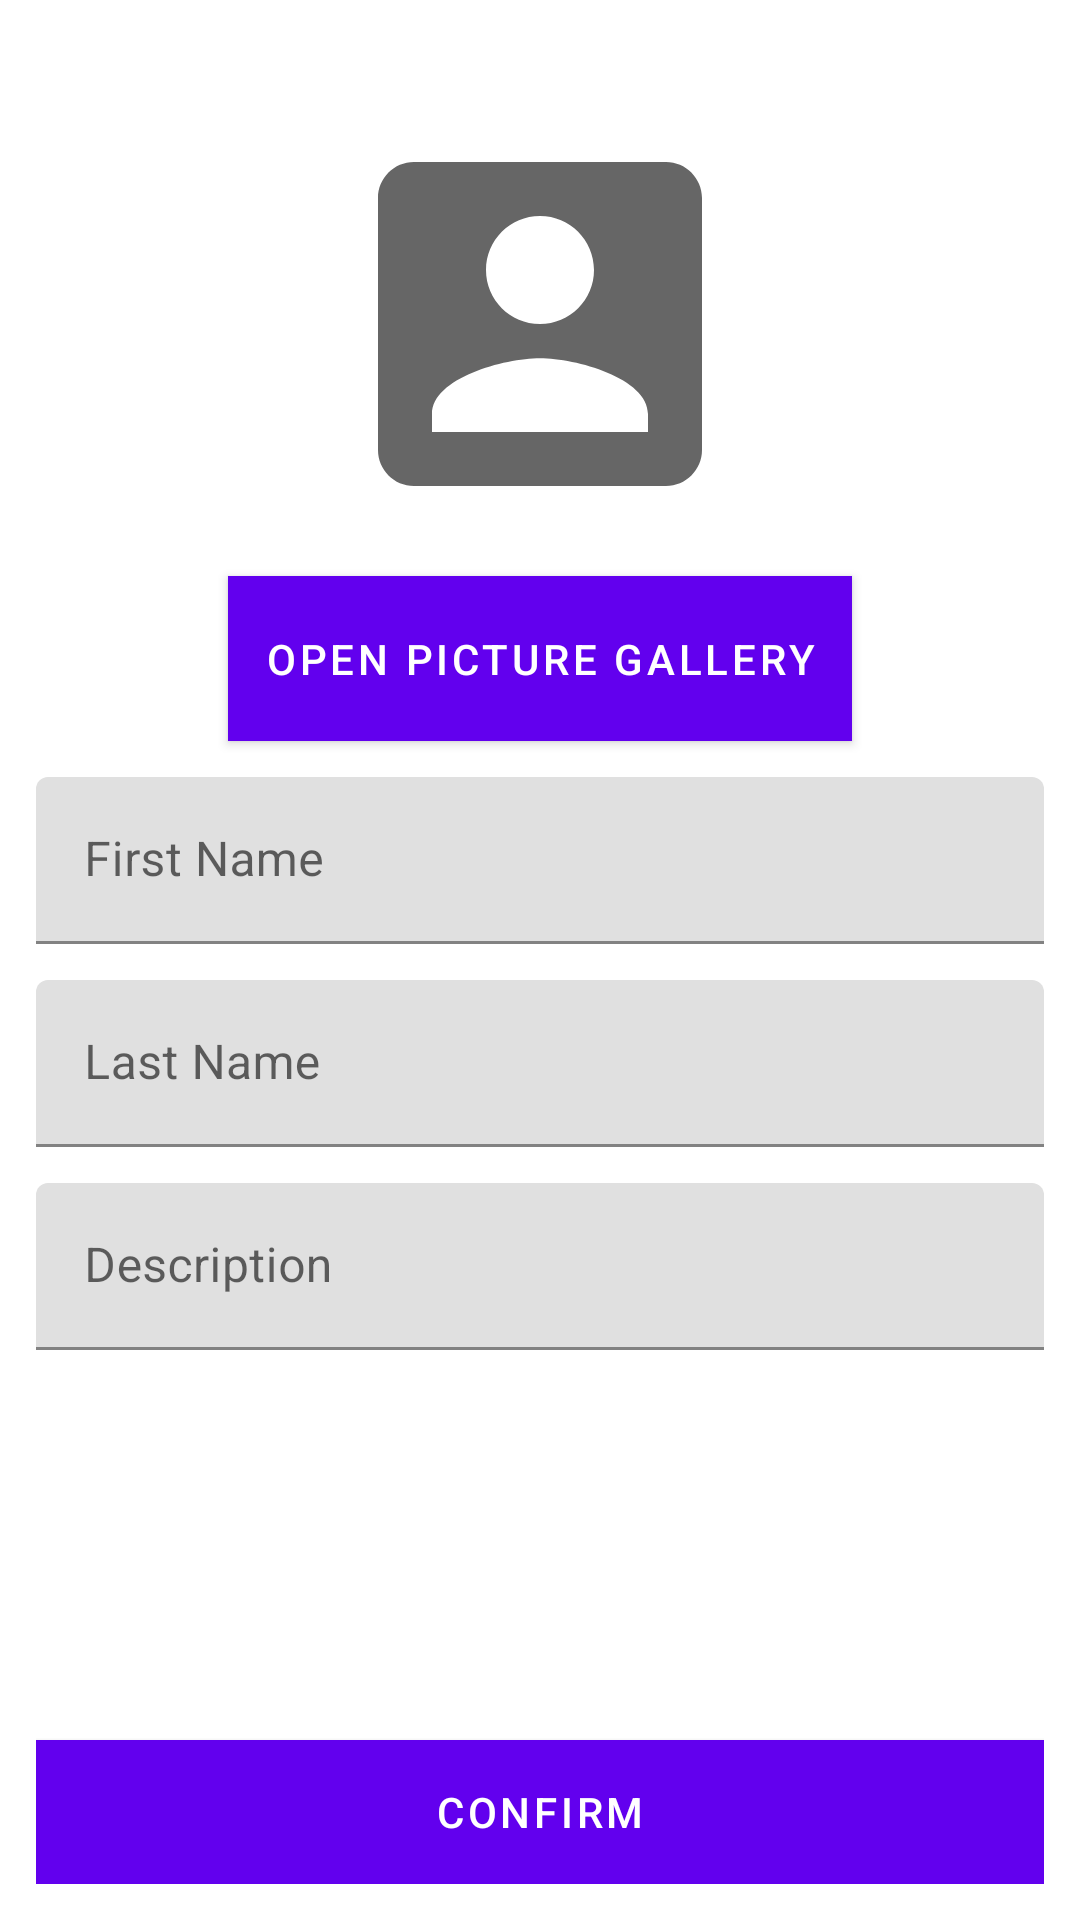

Named icons in this screenshot (1080 × 1920) and their centers, point (x, y):
Avatar: point (540, 324)
